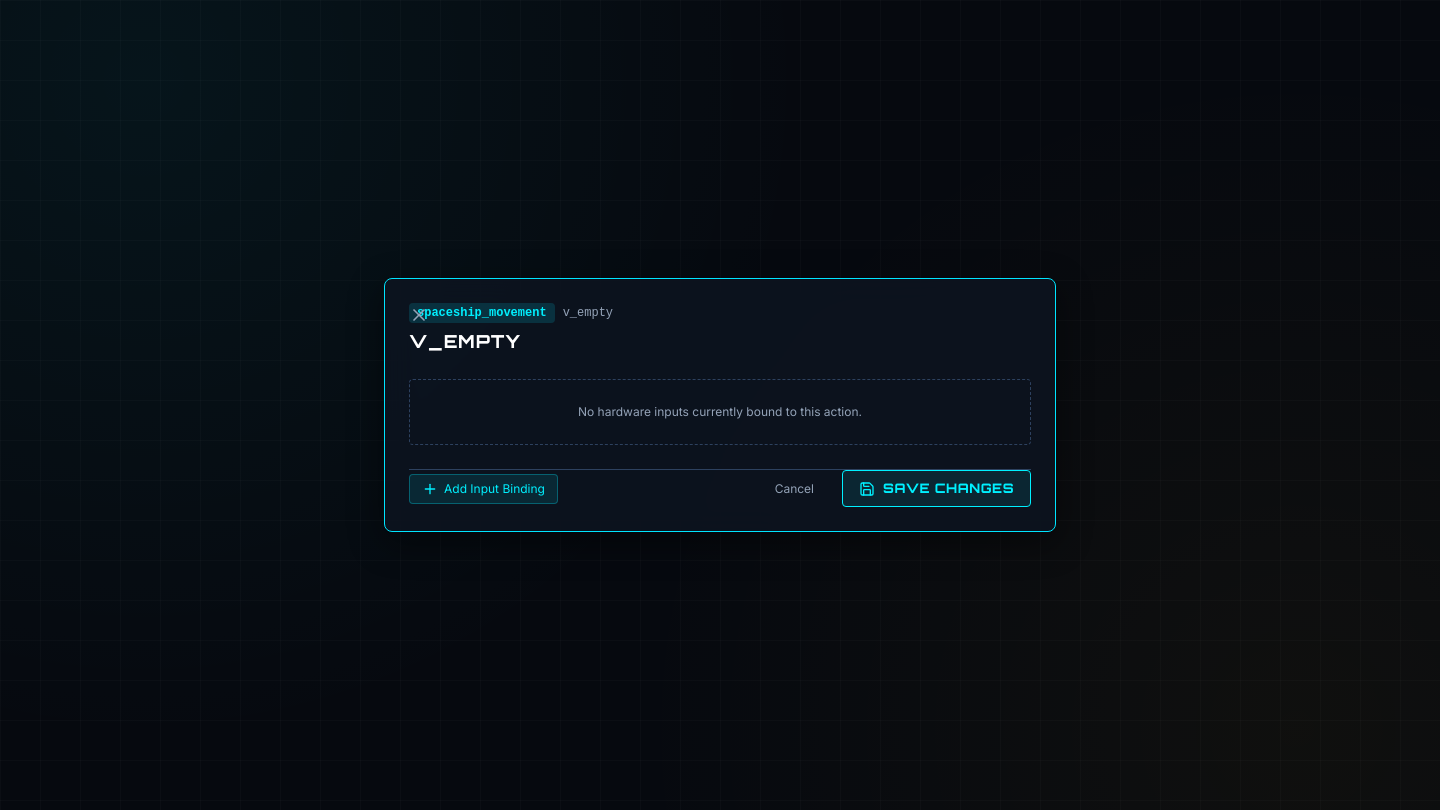
Scenario: BindingEditorModal Component › allows adding and removing input bindings
# Add first input (should default to rebind)
Click the button "Add Input Binding". click: (484, 488)
box: 409,474 -> 558,504
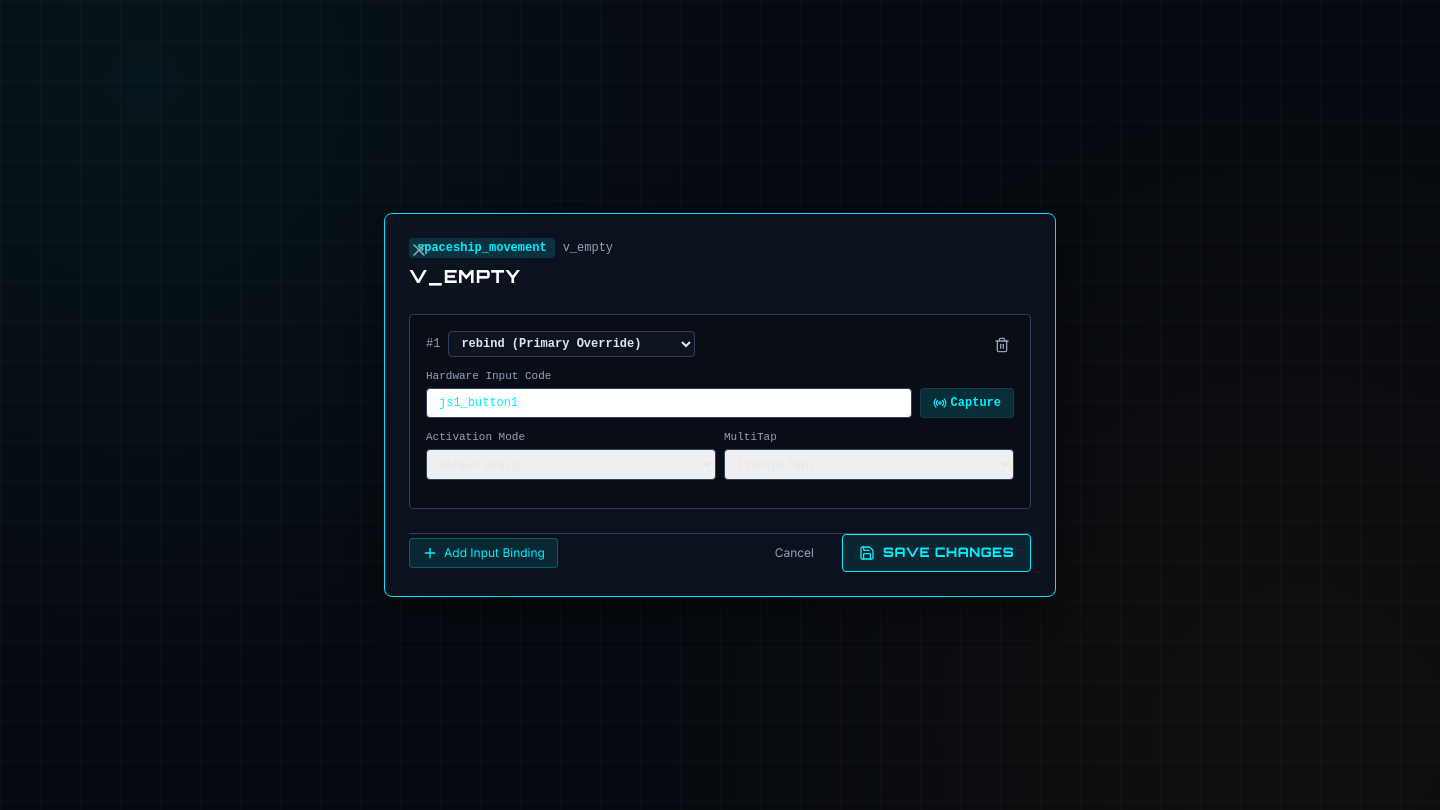
Check: the field showing "js1_button1" is shown, box 426,388 -> 912,418
Check: the 1st dropdown showing "rebind (Primary Override)" is shown, box 448,331 -> 695,357
# Add second input (should default to addbind)
Click the button "Add Input Binding". click: (484, 553)
box: 409,538 -> 558,568
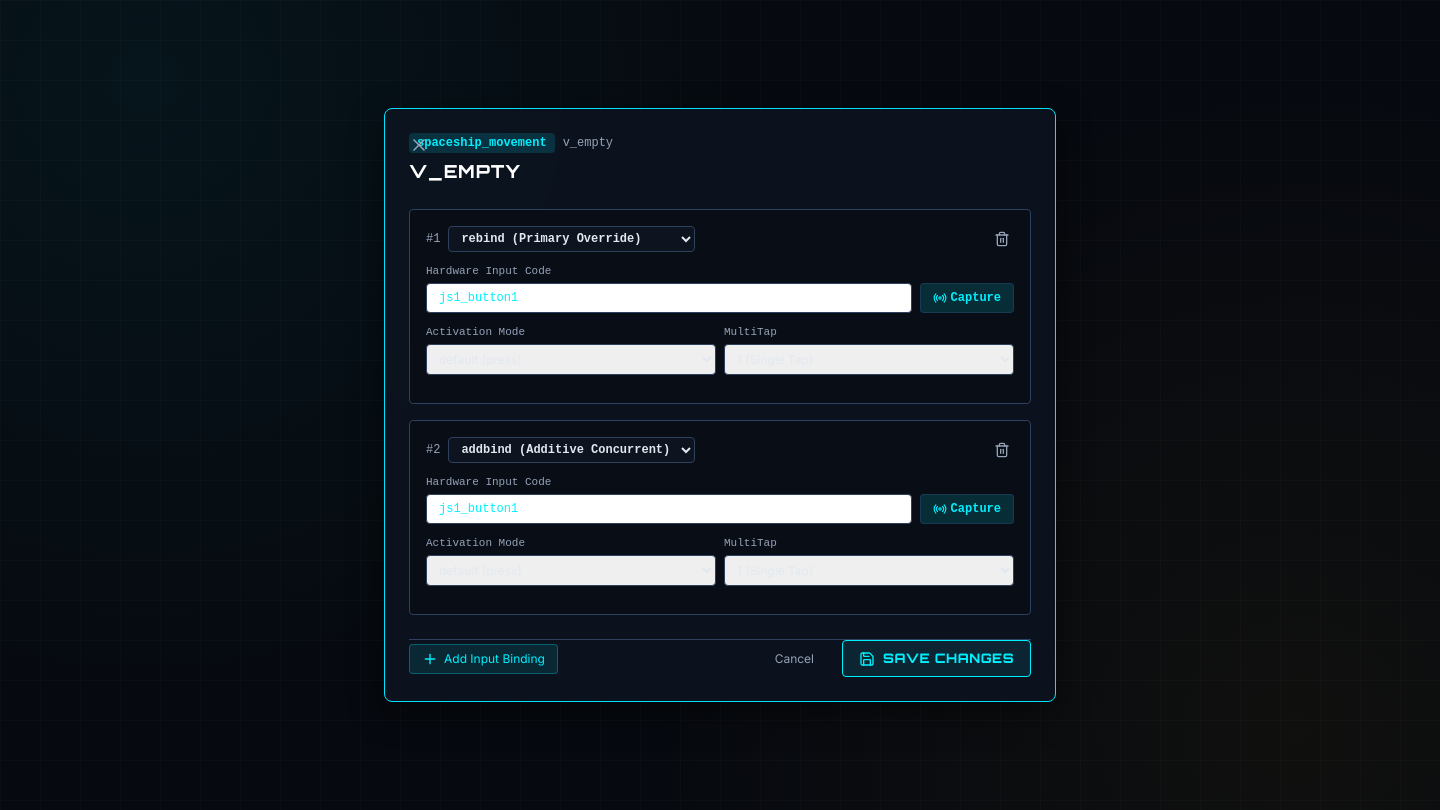
Check: the 4th dropdown showing "addbind (Additive Concurrent)" is shown, box 448,437 -> 695,463
Check: the number of buttons titled "Delete this binding" is 2
Click the 1st button titled "Delete this binding". click: (1002, 239)
box: 990,226 -> 1014,251
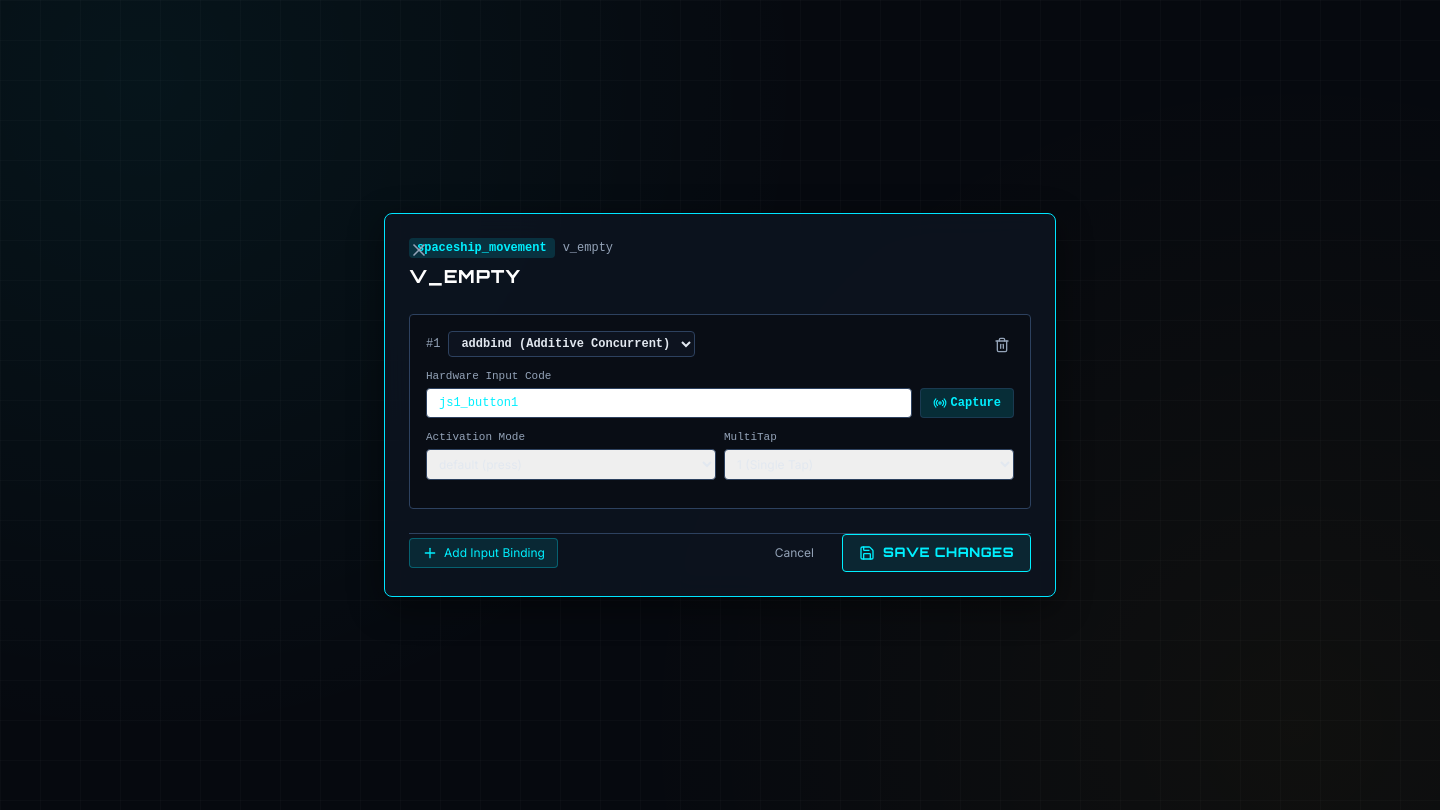
Check: the number of buttons titled "Delete this binding" is 1, box 990,332 -> 1014,356
